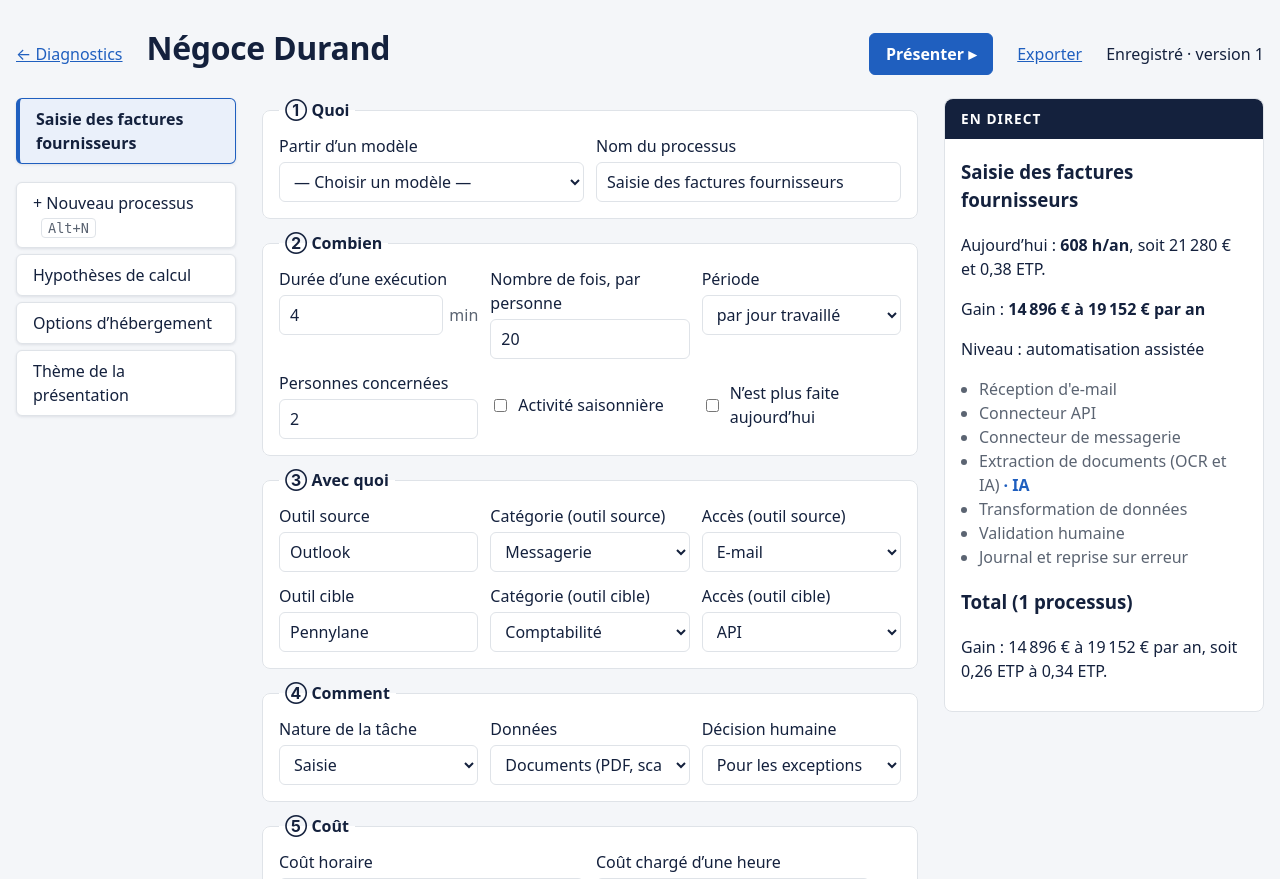
Scenario: Entretien › saisit une activité saisonnière : deux fréquences et des semaines de pointe
Later steps or results of the test are not shown.
Expected: the heading "Négoce Durand" is shown, [146,26,390,69]
Click the checkbox labelled "Activité saisonnière" at coordinates (501, 405), box [494,398,507,412]
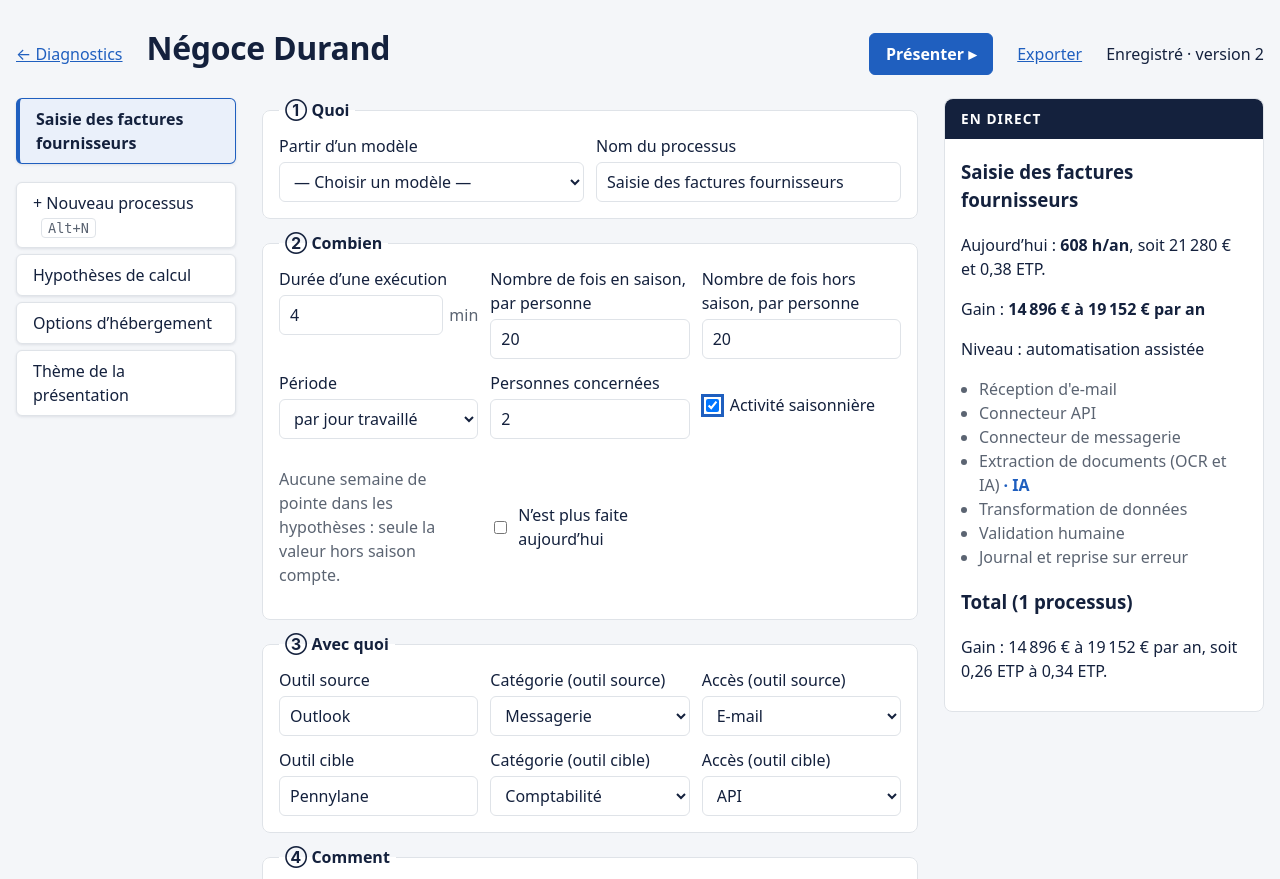
Expected: the text "seule la valeur hors saison compte" is shown, [279,468,435,586]
